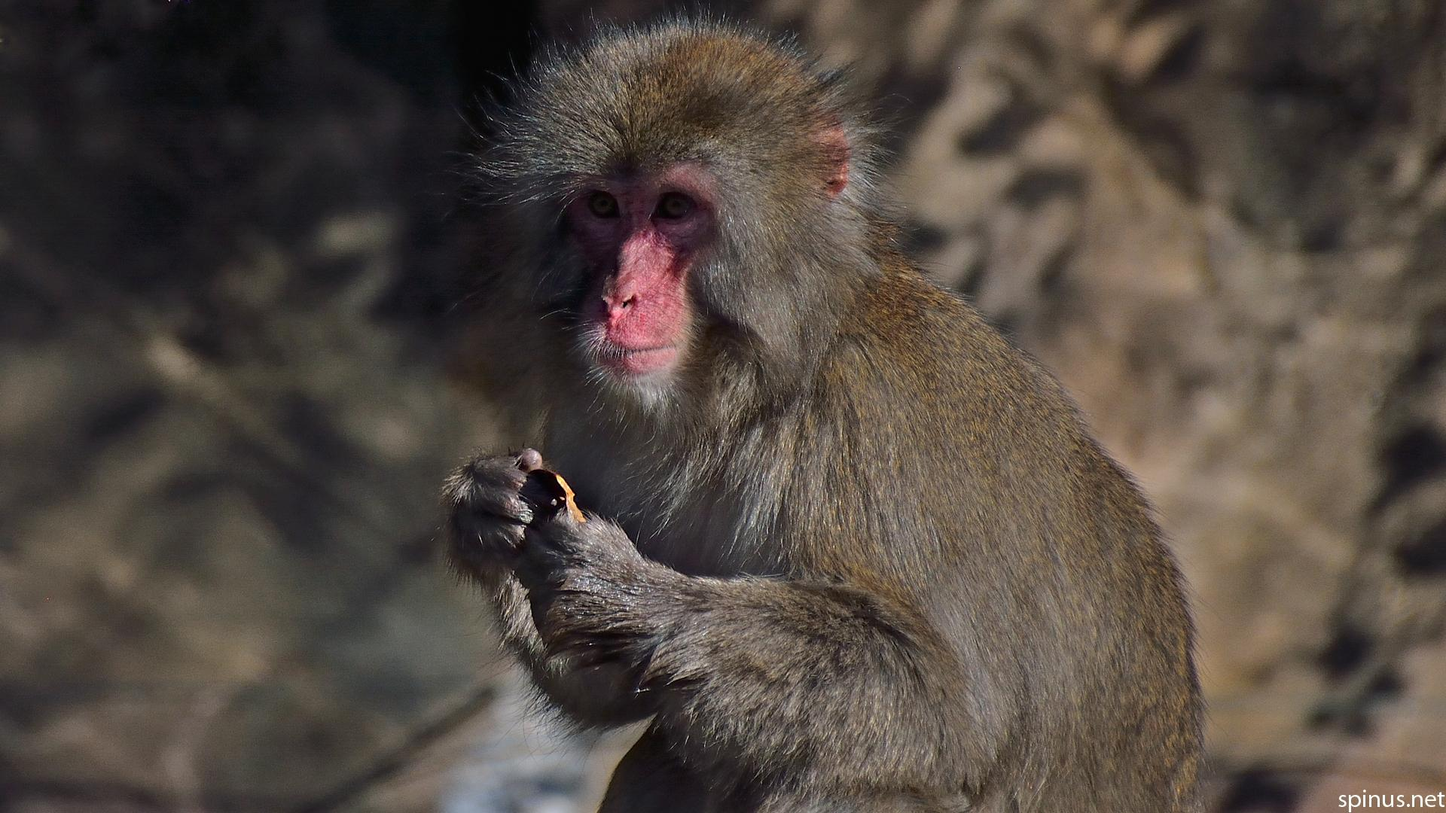monkey: (447, 23, 1206, 813)
